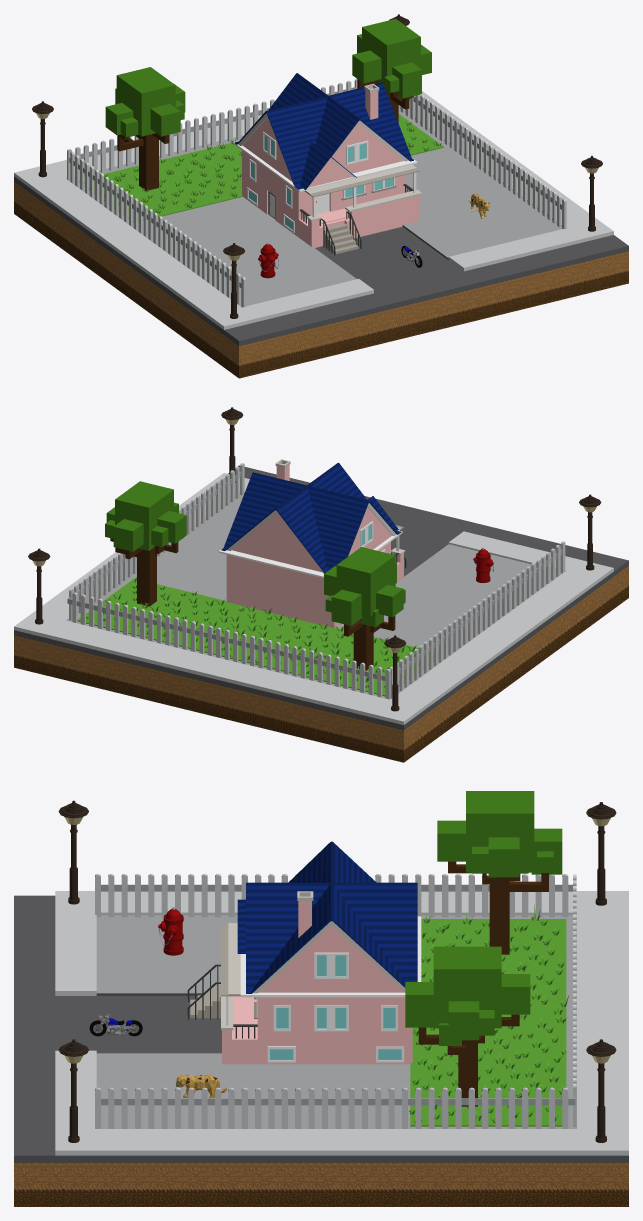
3 views of the same model, one above another, from view 1: azimuth 30°, elevation 25°; view 2: azimuth 150°, elevation 25°; view 3: azimuth 270°, elevation 25° (orthographic). The views are drawn at different scales.
Parts seen in each view (by area): view 1: Cube.004, Cube.313, OBJRANDOM_FIRE_HYDRANT; view 2: Cube.004, Cube.313, OBJRANDOM_FIRE_HYDRANT; view 3: Cube.004, Cube.313, OBJRANDOM_FIRE_HYDRANT, VEHICLES_CHOPPER, ANIMAL_JAGUAR.
Boxes of the visible parts, x1,y1,x2,y2 form: Cube.004: (14, 14, 628, 378); Cube.313: (233, 73, 422, 255); OBJRANDOM_FIRE_HYDRANT: (258, 243, 278, 278); Cube.004: (14, 407, 628, 762); Cube.313: (218, 459, 406, 627); OBJRANDOM_FIRE_HYDRANT: (473, 547, 493, 582); Cube.004: (14, 791, 628, 1206); Cube.313: (187, 841, 421, 1064); OBJRANDOM_FIRE_HYDRANT: (158, 907, 183, 955); VEHICLES_CHOPPER: (89, 1014, 142, 1036); ANIMAL_JAGUAR: (175, 1074, 226, 1098).
Size of the model in its own units: 4000 by 1617 by 4000.
34 materials, 3 textured.
